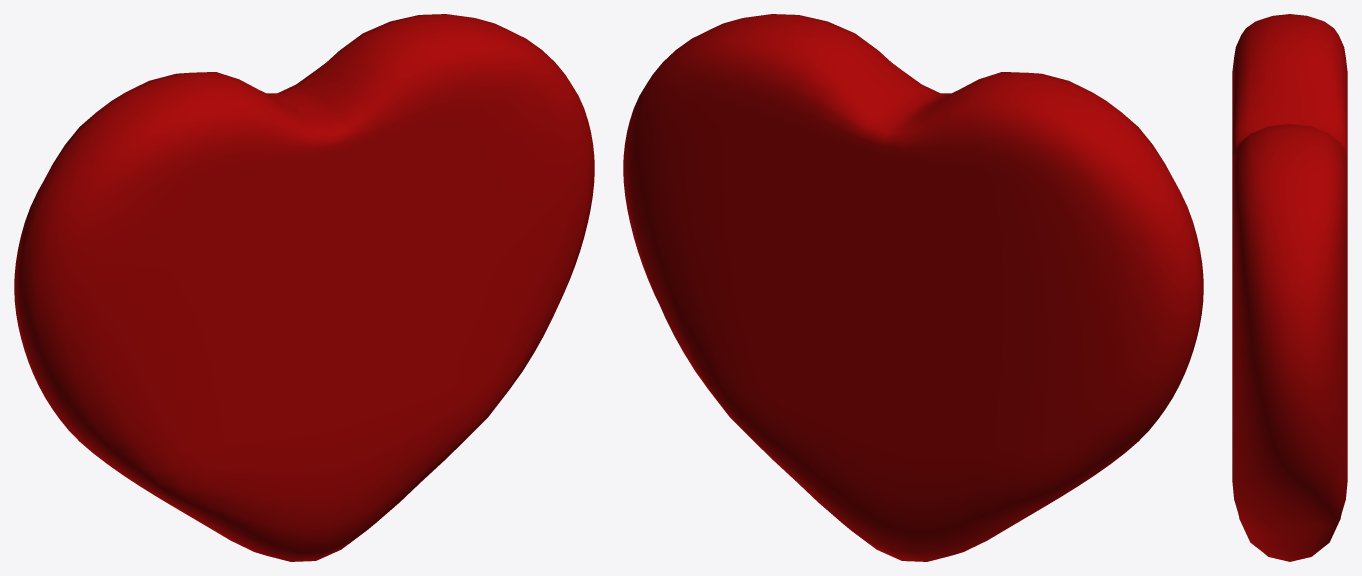
Rendered from HeartHealth.fbx.
The picture shows the model from 3 angles, left to right: view 1: azimuth 30°, elevation 25°; view 2: azimuth 150°, elevation 25°; view 3: azimuth 270°, elevation 25°; orthographic projection. The views are drawn at different scales.
Parts seen in each view (by area): view 1: pCube1; view 2: pCube1; view 3: pCube1.
Part boxes in pixels (box(x1,y1,x2,y2)): pCube1: box(14, 14, 594, 561); pCube1: box(623, 14, 1203, 561); pCube1: box(1232, 14, 1347, 561).
Size of the model in its own units: 2.88 by 0.5402 by 2.43.
